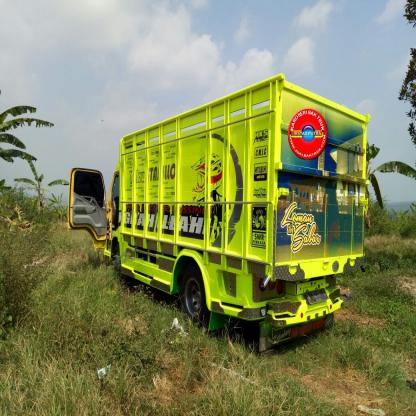truck: (68, 73, 370, 353)
